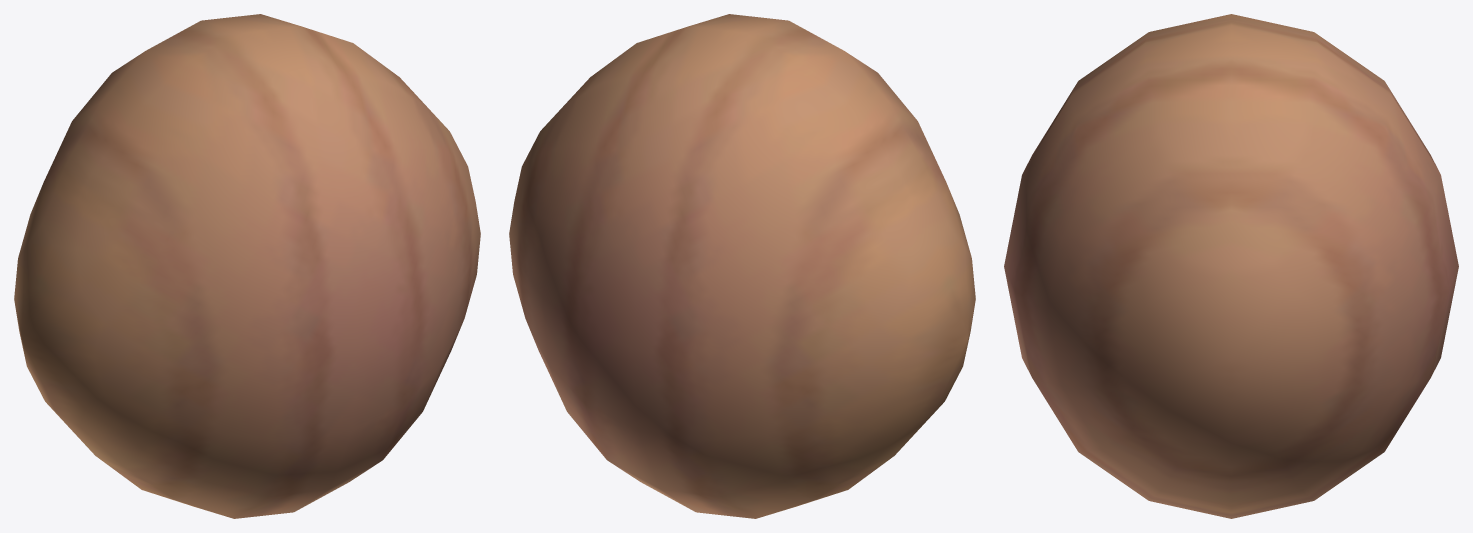
Rendered from BushSeed.fbx.
3 views of the same model, side by side, from view 1: azimuth 30°, elevation 25°; view 2: azimuth 150°, elevation 25°; view 3: azimuth 270°, elevation 25° (orthographic).
Parts seen in each view (by area): view 1: Bushlime; view 2: Bushlime; view 3: Bushlime.
Part boxes in pixels (x1,y1,x2,y2): Bushlime: (14,14,480,518); Bushlime: (509,14,975,518); Bushlime: (1004,14,1458,518).
Bounding box in the file's own units: 0.3588 × 0.3558 × 0.3084.
Materials: 1 (1 with a texture image).
